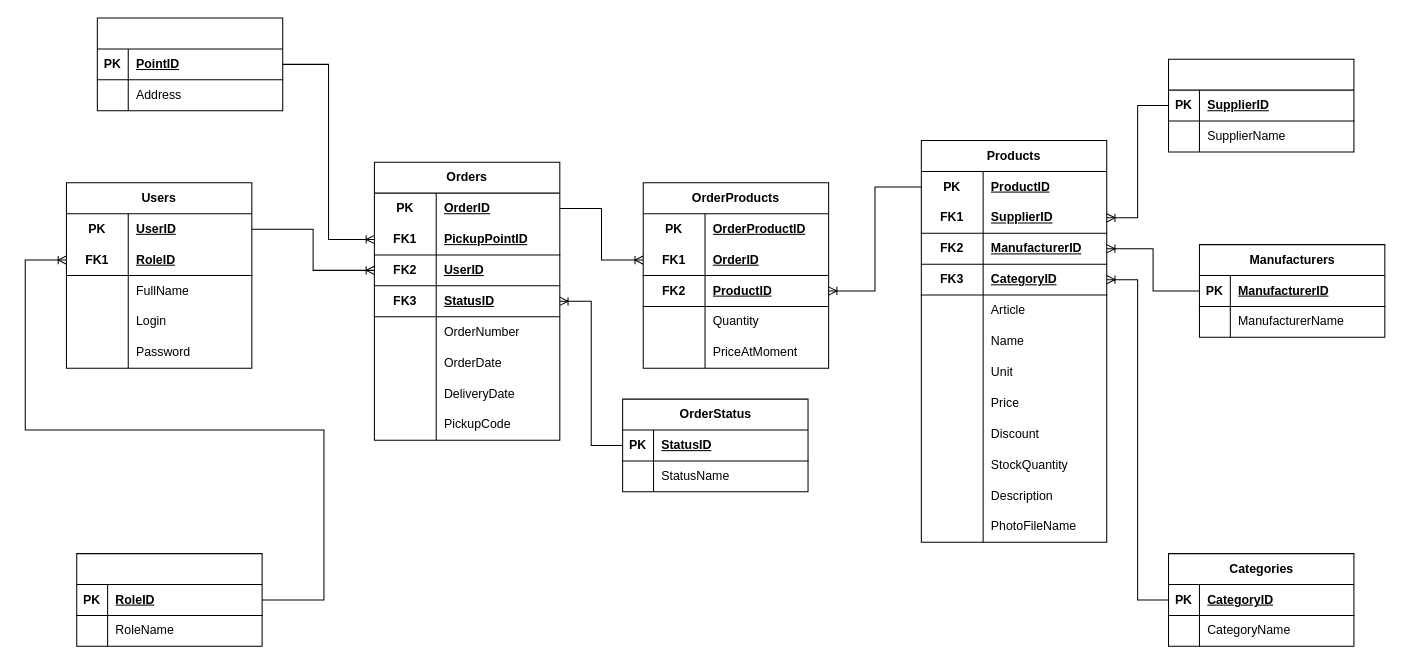
The diagram is 1403 pixels wide and 664 high, and some of its shapes have lost their labels. The shapes that lost their labels are listed below. From the top down, each one's box as (x1, y1, x2, y2) in pixels, then its label:
(96, 17, 283, 111): PickupPoints
(1168, 58, 1354, 152): Suppliers
(76, 553, 262, 646): Roles
